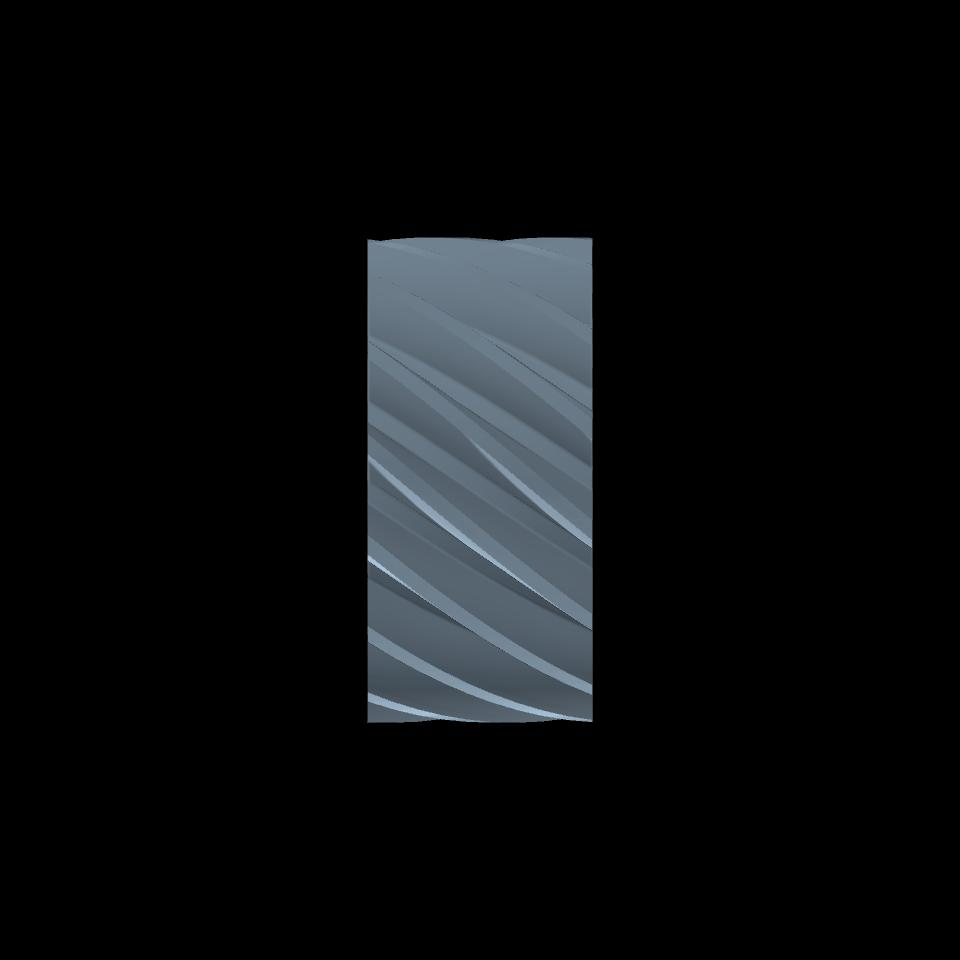Helical: (367, 238, 591, 721)
